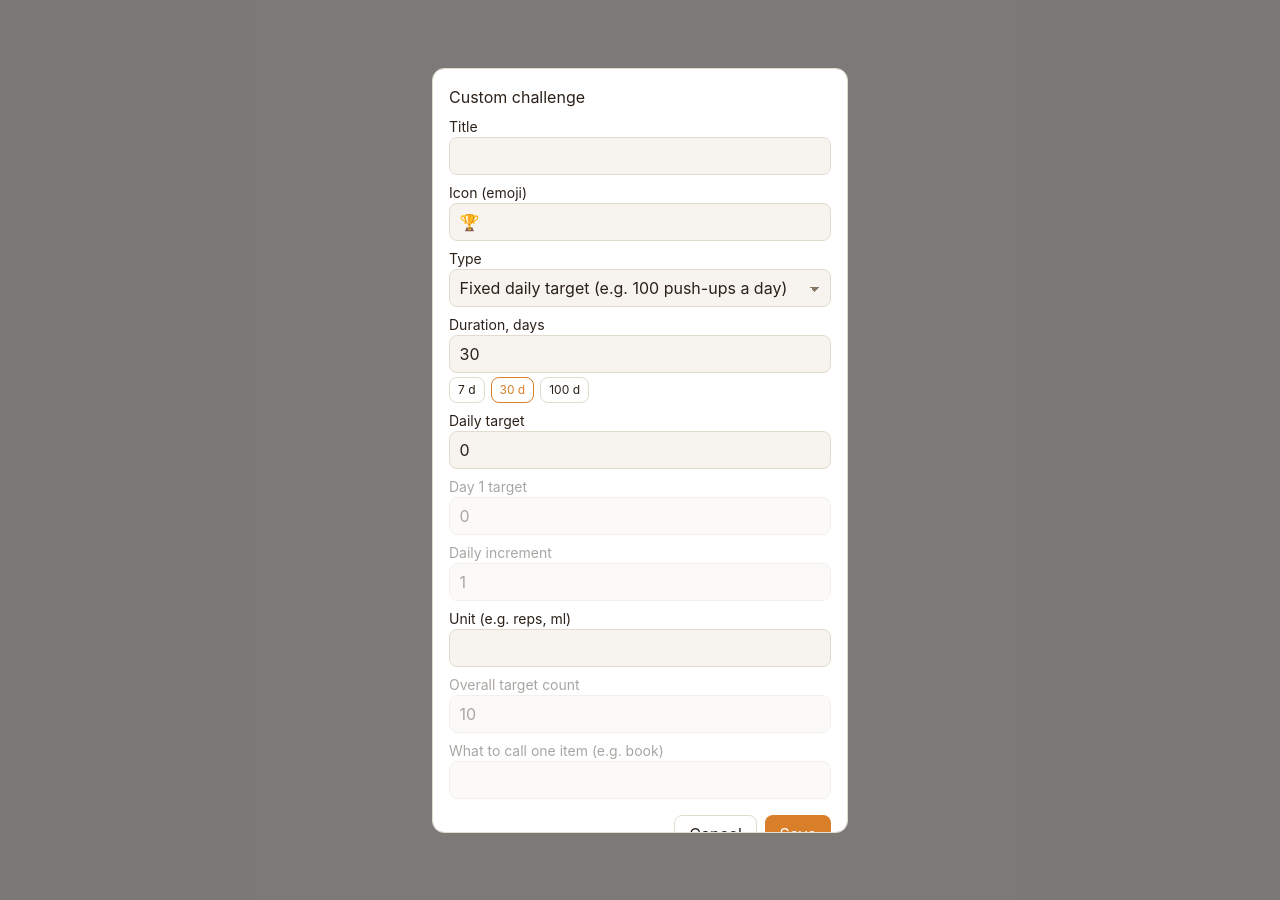
Test: CustomChallengeForm: быстрый выбор длительности › нажатие на чип подставляет число дней в поле и в сохраняемый результат
The image size is (1280, 900).
Check: the element with test id "duration-chips" is shown, box [449,376,589,402]
Click the button with test id "duration-chip-7" at (467, 390), box [449,376,484,402]
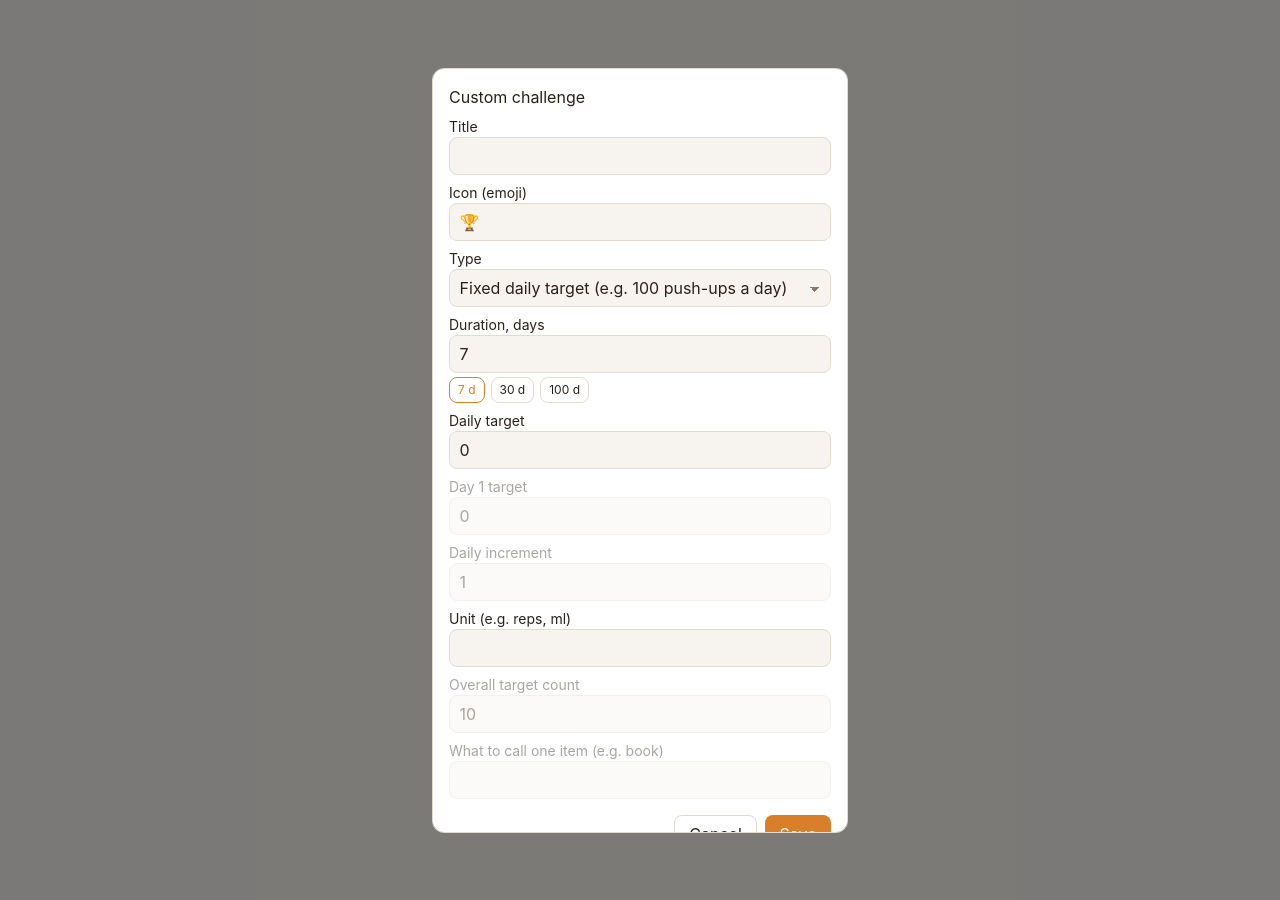
Check: the 1st number field holds "7", box [449,334,831,372]
Click the button with test id "duration-chip-100" at (565, 390), box [540,376,589,402]
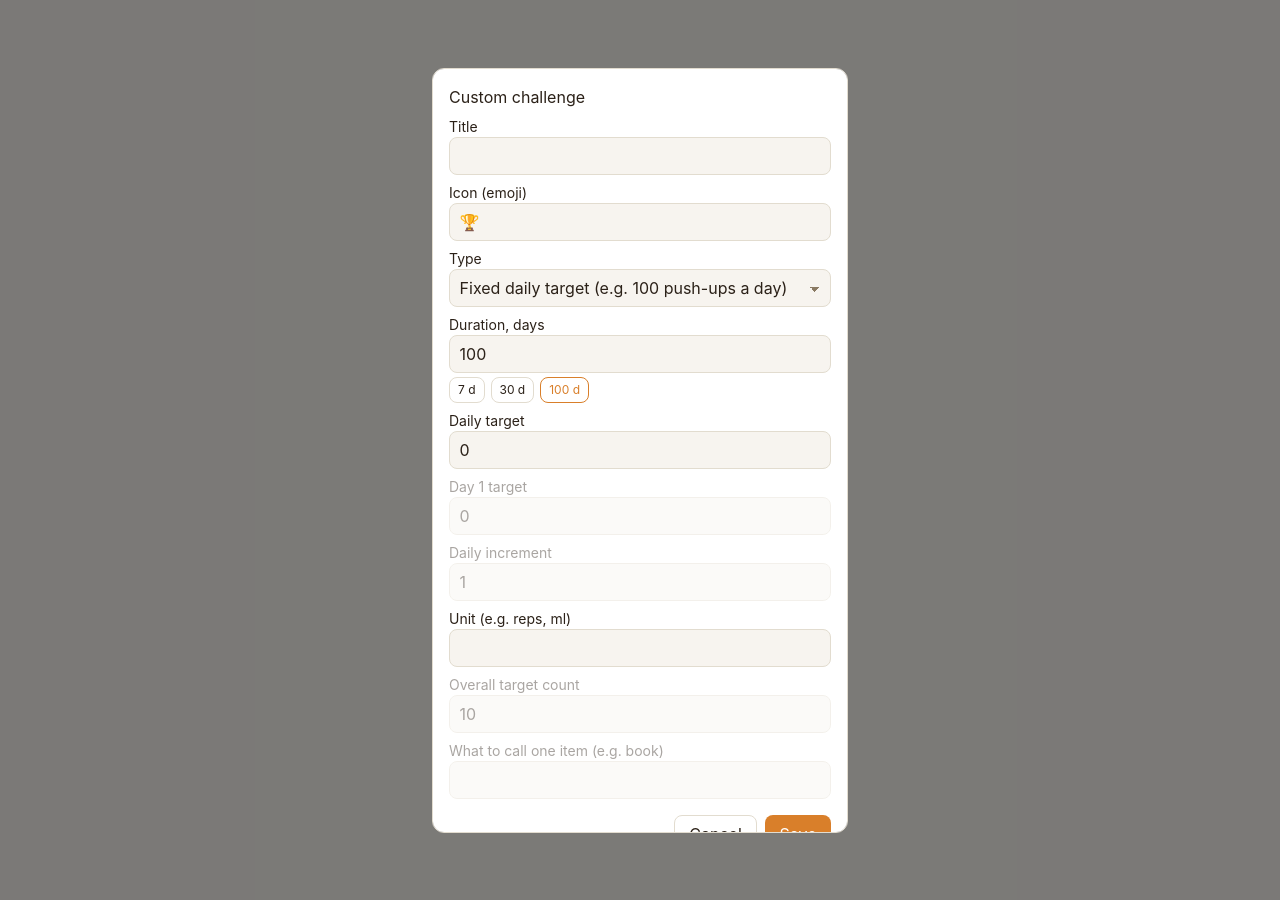
Check: the 1st number field holds "100", box [449,334,831,372]
